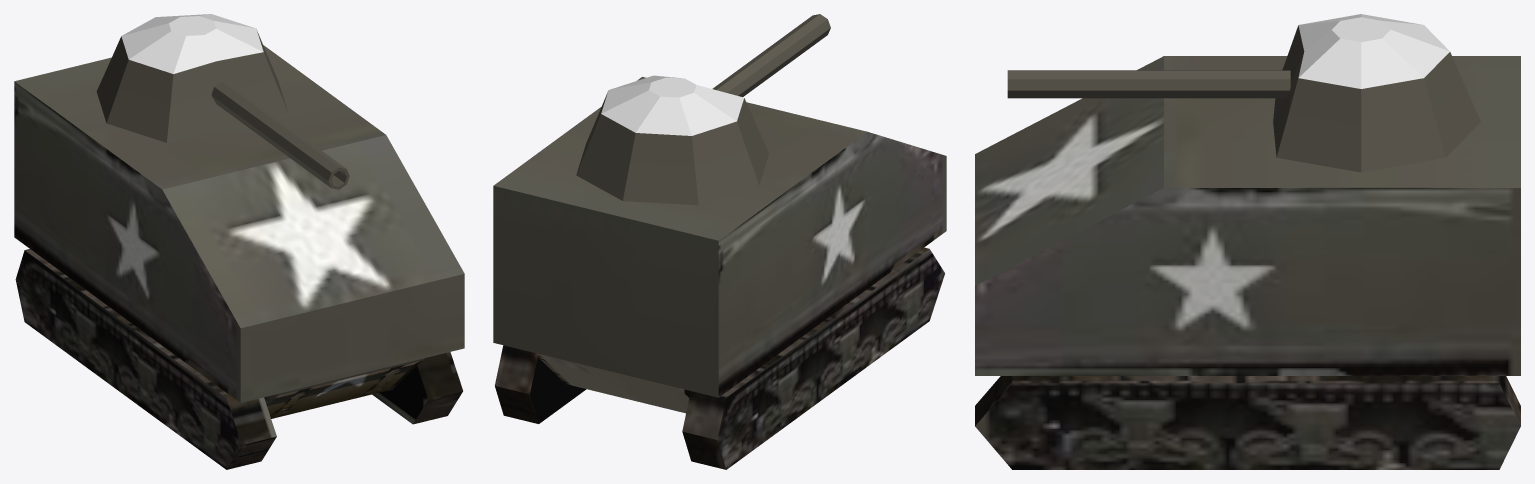
The model's file is tank.glb.
The picture shows the model from 3 angles, left to right: view 1: azimuth 30°, elevation 25°; view 2: azimuth 150°, elevation 25°; view 3: azimuth 270°, elevation 25°; orthographic projection. The views are drawn at different scales.
Parts seen in each view (by area): view 1: Body, Circle; view 2: Body, Circle; view 3: Body, Circle.
Part boxes in pixels (box(x1,y1,x2,y2)): Body: box(14, 45, 464, 469); Circle: box(96, 14, 349, 189); Body: box(493, 77, 946, 469); Circle: box(576, 14, 830, 205); Body: box(975, 56, 1520, 469); Circle: box(1007, 14, 1480, 172).
Bounding box in the file's own units: 1 × 1.33 × 1.75.
2 materials, 1 textured.
